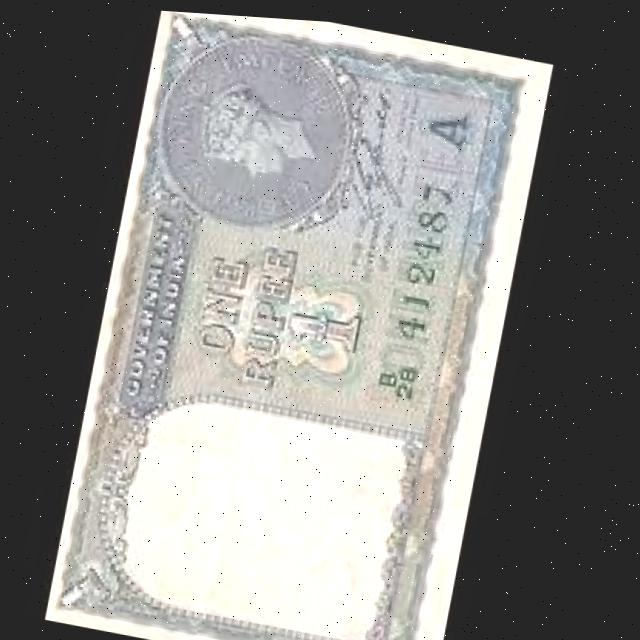banknote: (49, 4, 546, 640)
